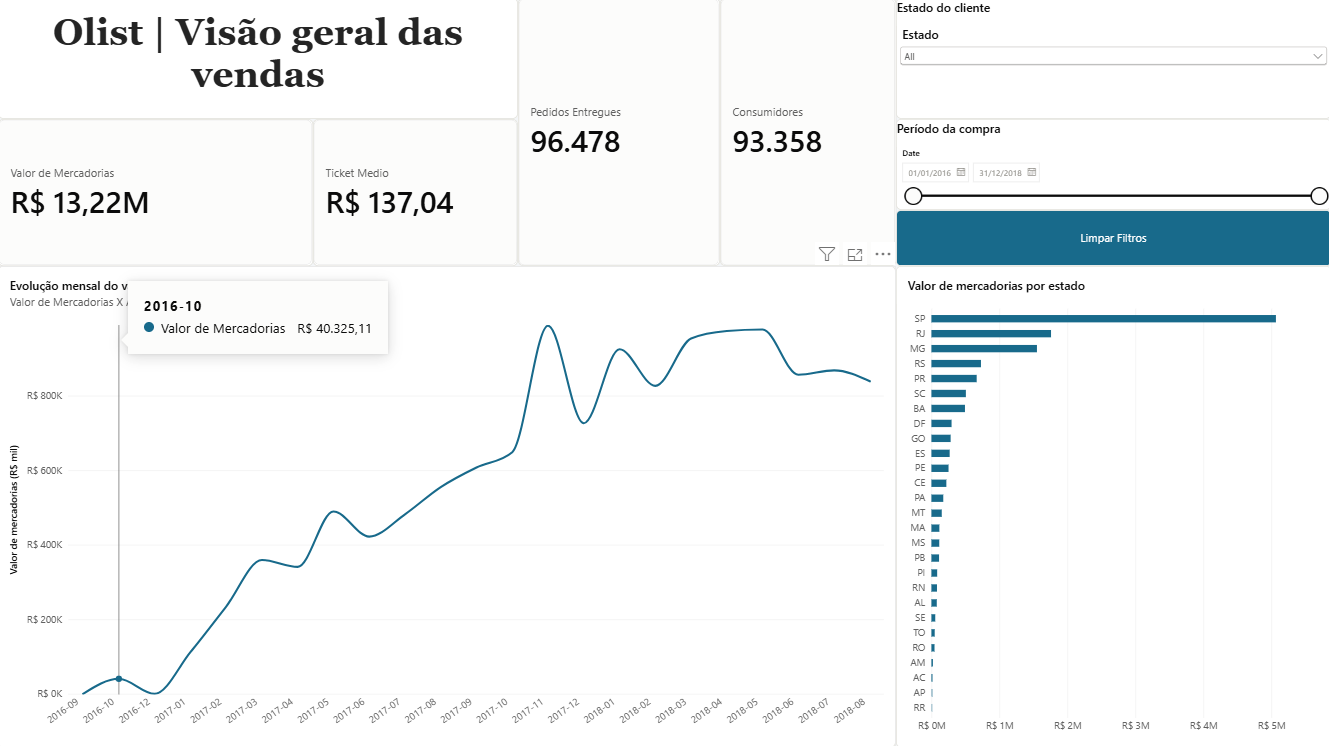

This screenshot's page, from the dashboard's own definition file:
{"tool":"powerbi","page":{"name":"Visão Geral","canvas":[1920,1080],"ordinal":0},"visuals":[{"type":"cardVisual","fields":{"Data":["FatoPedidos.Valor de Mercadorias"]},"box":[0,174.3,453.7,211.7],"z":0},{"type":"cardVisual","fields":{"Data":["FatoPedidos.Ticket Medio"]},"box":[453.7,174.3,295.3,211.7],"z":1000},{"type":"cardVisual","fields":{"Data":["FatoPedidos.Consumidores"]},"box":[1039.9,0,253.5,386],"z":2000},{"type":"lineChart","title":"Evolução mensal do valor de mercadorias","fields":{"Category":["Calendario.AnoMes"],"Y":["FatoPedidos.Valor de Mercadorias"]},"box":[0,386,1293.4,694.3],"z":3000},{"type":"slicer","title":"Período da compra","fields":{"Values":["Calendario.Date"]},"box":[1293.4,174.3,626.6,131.1],"z":4000},{"type":"slicer","title":"Estado do cliente","fields":{"Values":["FatoPedidos.customer_state"]},"box":[1293.4,0,626.6,174.3],"z":5000},{"type":"clusteredBarChart","title":"Valor de mercadorias por estado","fields":{"Category":["FatoPedidos.customer_state"],"Y":["FatoPedidos.Valor de Mercadorias"]},"box":[1293.4,386,626.6,694.3],"z":6000},{"type":"cardVisual","fields":{"Data":["FatoPedidos.Pedidos Entregues"]},"box":[749,0,291,386],"z":7000},{"type":"textbox","box":[0,0,749,174.3],"z":8000},{"type":"actionButton","box":[1293.4,305.4,626.6,80.7],"z":9000}]}

Visuals, with their boxes in screenshot pixels (x1, y1, x2, y2), scaled from the page's 1920x1080 canvas onto the 1329x746 screenshot:
cardVisual - FatoPedidos.Valor de Mercadorias: select_region(0, 120, 314, 267)
cardVisual - FatoPedidos.Ticket Medio: select_region(314, 120, 518, 267)
cardVisual - FatoPedidos.Consumidores: select_region(720, 0, 895, 267)
"Evolução mensal do valor de mercadorias" lineChart: select_region(0, 267, 895, 745)
"Período da compra" slicer: select_region(895, 120, 1328, 211)
"Estado do cliente" slicer: select_region(895, 0, 1328, 120)
"Valor de mercadorias por estado" clusteredBarChart: select_region(895, 267, 1328, 745)
cardVisual - FatoPedidos.Pedidos Entregues: select_region(518, 0, 720, 267)
textbox: select_region(0, 0, 518, 120)
actionButton: select_region(895, 211, 1328, 267)
